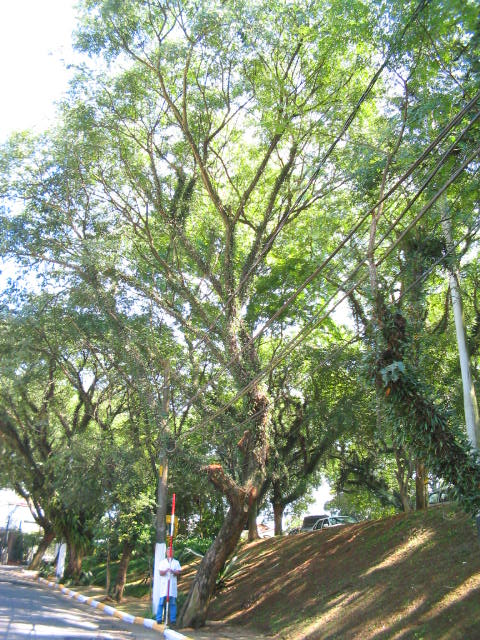crown: (15, 3, 463, 377)
stem: (177, 373, 294, 627)
stick: (163, 493, 179, 626)
tree: (13, 2, 465, 628)
